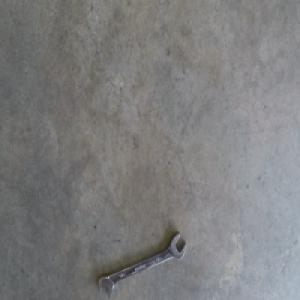Wrench: (97, 234, 186, 293)
